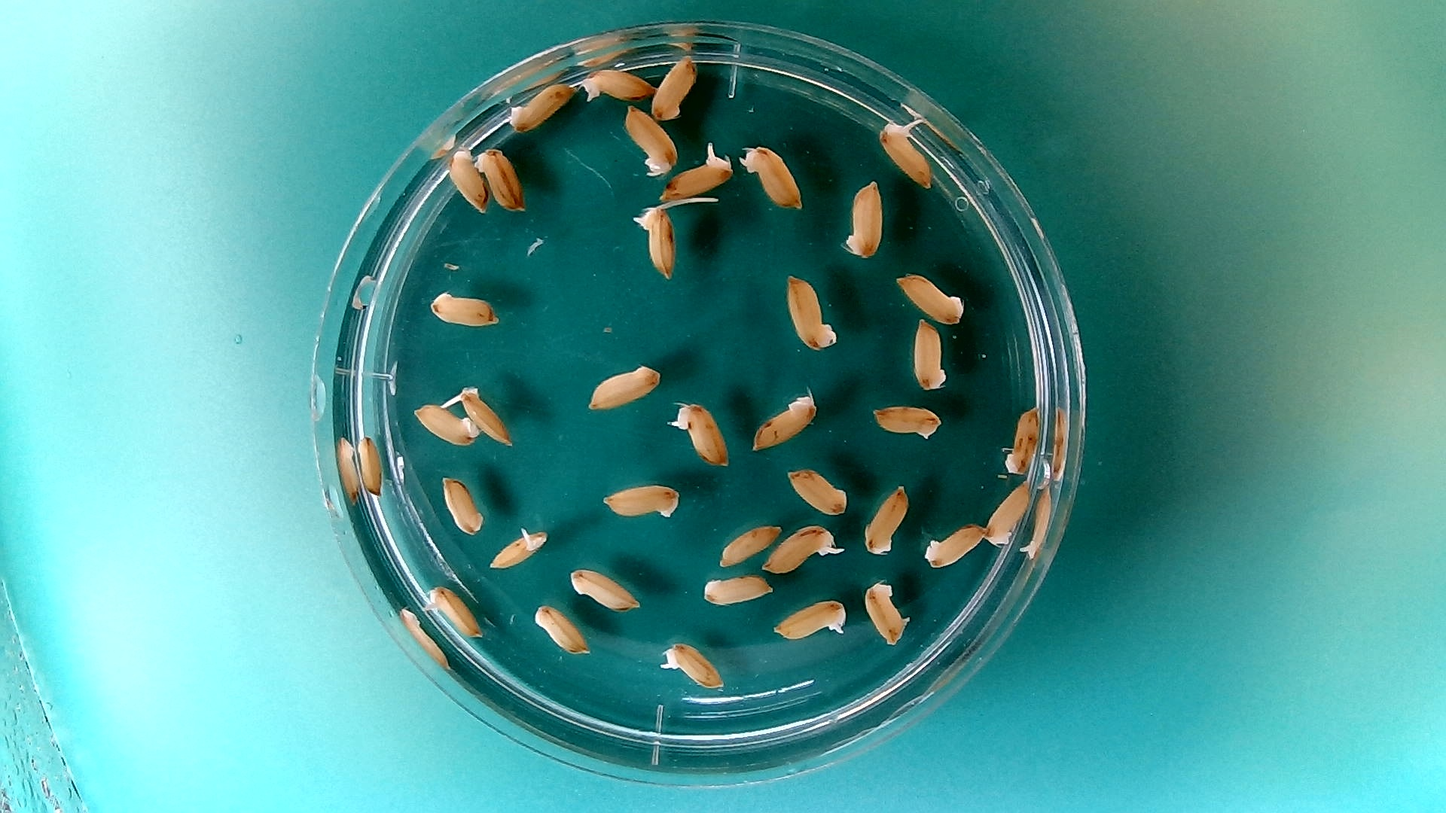no: (781, 269, 839, 354), (748, 386, 820, 454), (582, 362, 663, 416), (502, 78, 579, 134), (892, 268, 968, 324), (621, 102, 679, 175), (839, 175, 886, 261), (472, 142, 526, 213), (862, 481, 911, 557), (983, 477, 1034, 549), (566, 564, 643, 611), (596, 479, 682, 521), (862, 576, 912, 647), (650, 51, 700, 121), (784, 464, 850, 517), (410, 397, 480, 446), (529, 600, 590, 656), (920, 519, 986, 570), (444, 140, 489, 214), (999, 403, 1042, 480), (715, 519, 782, 568), (426, 286, 502, 329), (909, 315, 950, 394), (701, 574, 780, 613), (439, 473, 486, 536), (868, 401, 942, 441), (356, 431, 386, 496)
yes: (630, 200, 715, 288), (658, 395, 733, 477), (737, 141, 806, 213), (758, 522, 841, 577), (875, 114, 935, 189), (658, 144, 737, 199), (453, 382, 513, 446), (657, 638, 726, 691), (770, 595, 849, 641), (423, 581, 484, 639), (577, 64, 657, 104), (485, 524, 550, 571)
